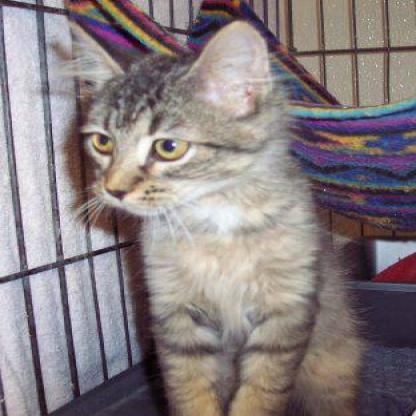cat: (52, 17, 344, 300)
